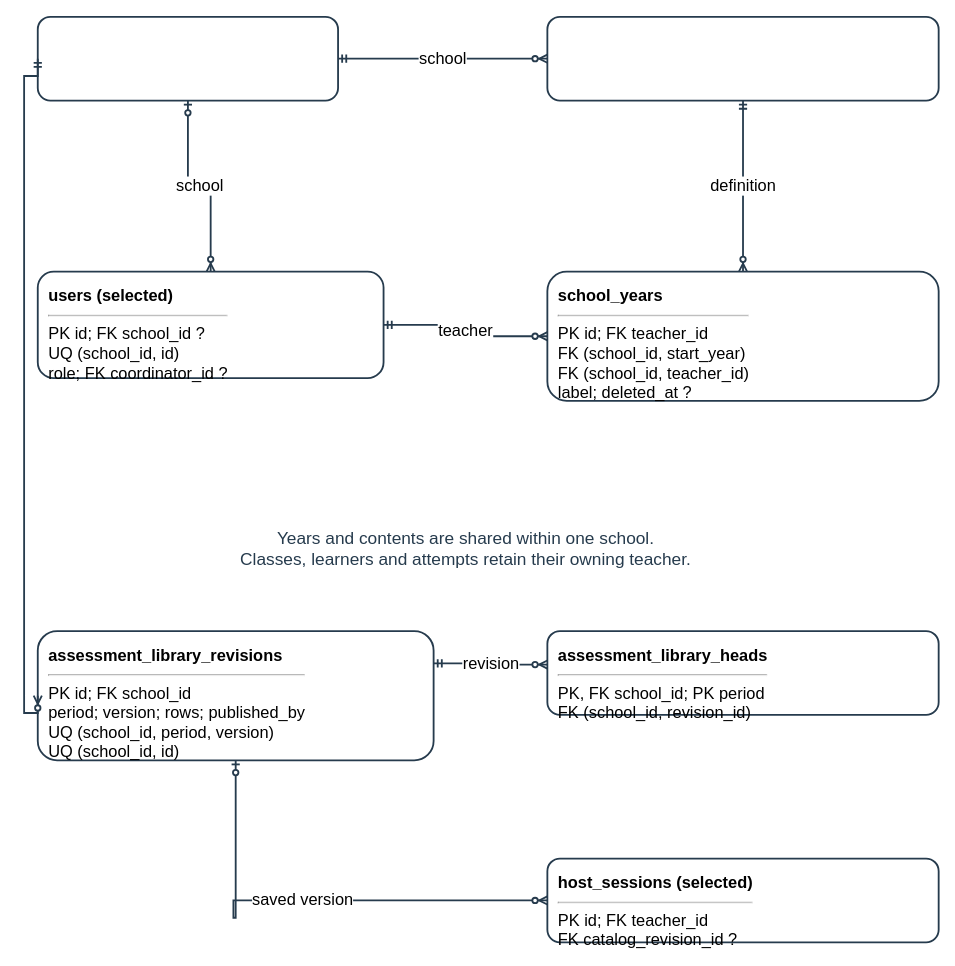
Image size: 955x966. Some labels were removed from this diagram. The shapes that lost their labels are listed below. From the top down, each one's centre as x and y in pixels, then its label:
At pixel 187 58: "schools PK id; name Registered school boundary".
At pixel 742 58: "global_school_years PK, FK school_id; PK start_year label; deleted_at ?".
